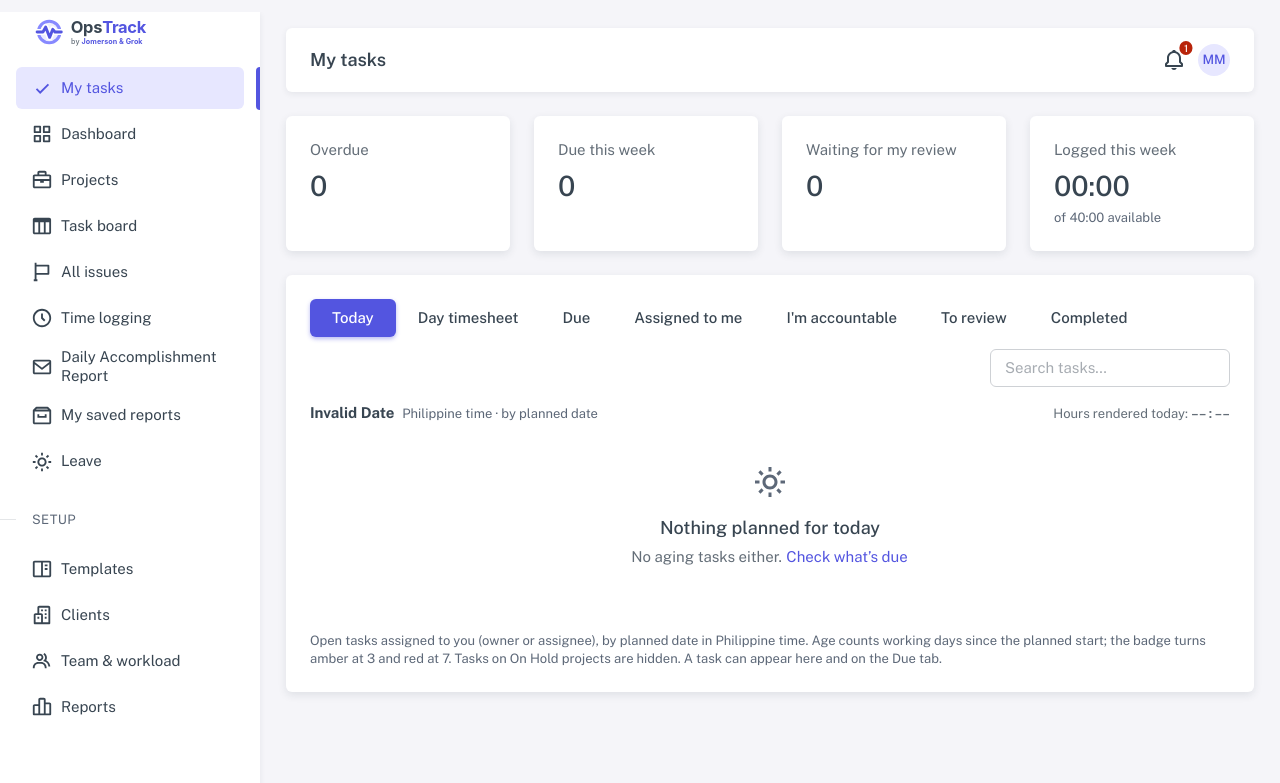
Notification bell: issues › shows the issue key and opens the issue
The image size is (1280, 783).
Step 1. Click the button named "Notifications, 1 unread" → x=1174, y=60, box [1162,48,1186,72]
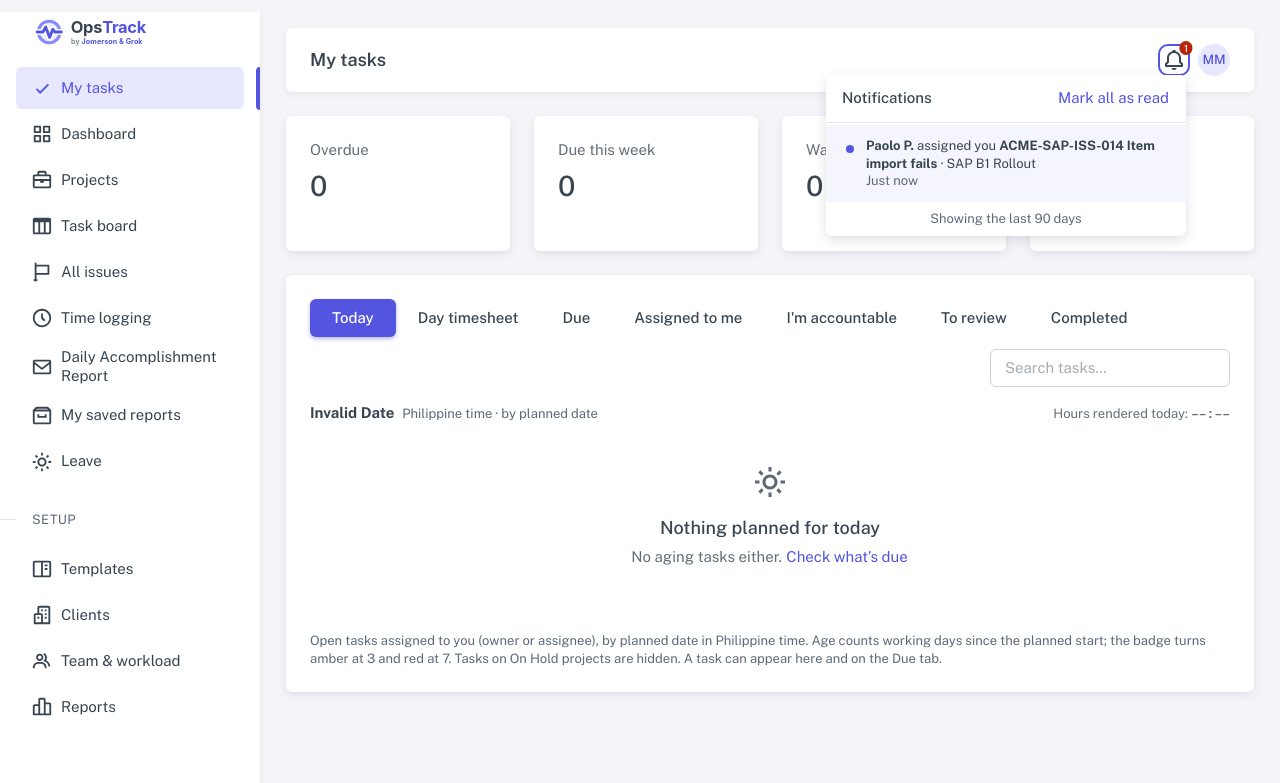
Check: the button that starts with "Paolo P." shows "ACME-SAP-ISS-014 Item import fails"
Step 2. Click the button that starts with "Paolo P." → x=1006, y=163, box [826,125,1186,202]
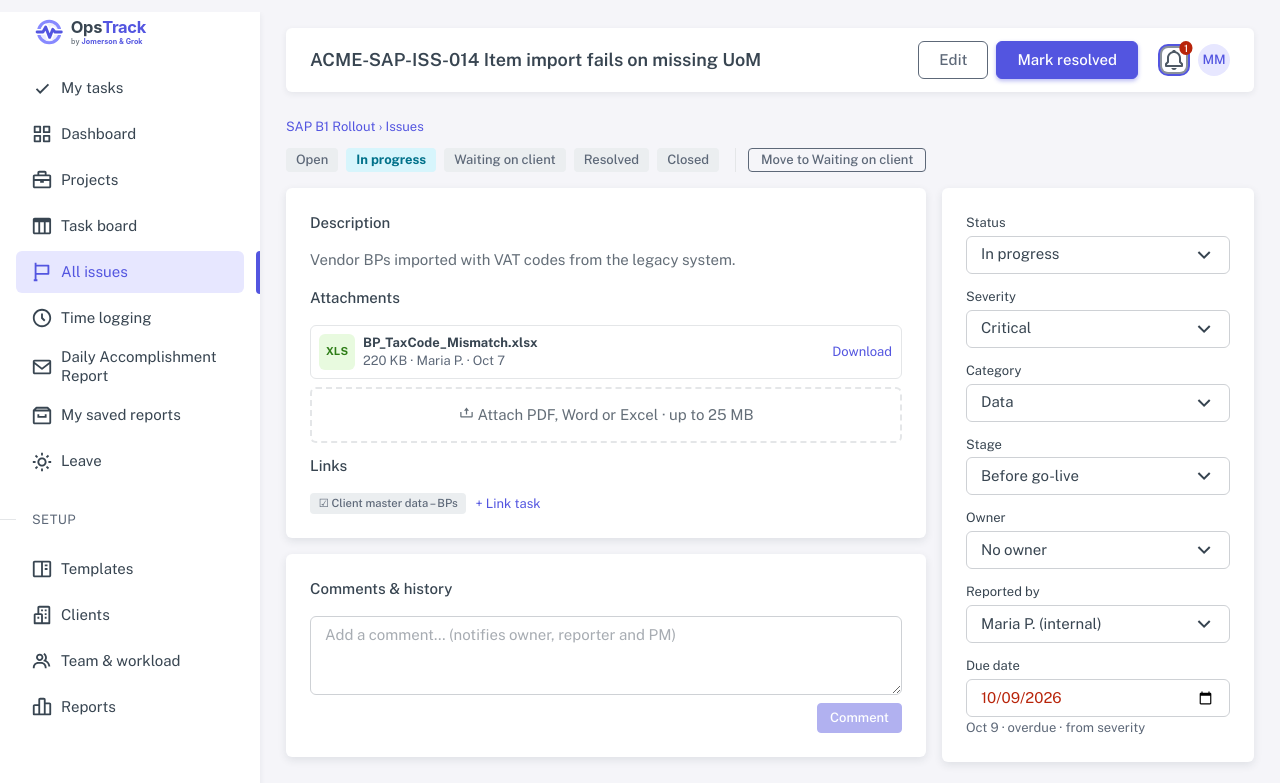
Check: the heading "Comments & history" is shown, box [310,580,452,597]
